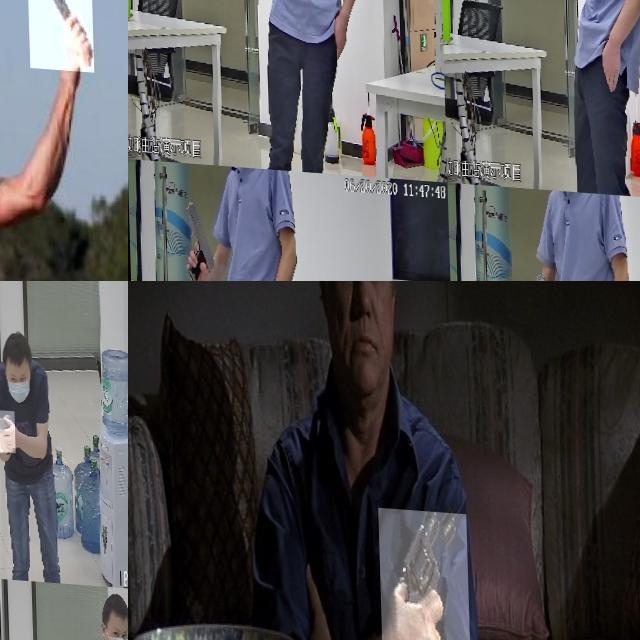-: (24, 0, 92, 71)
gun-knife-thesis - v11 Yolov5 augmented: (376, 502, 468, 640), (178, 198, 212, 281), (166, 0, 203, 19), (525, 0, 548, 30), (0, 408, 15, 451), (530, 264, 556, 281)
